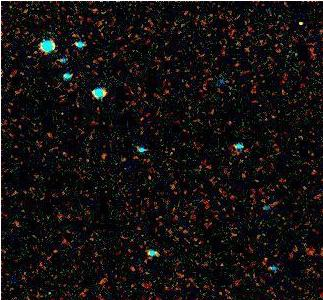star: (285, 7, 315, 37)
